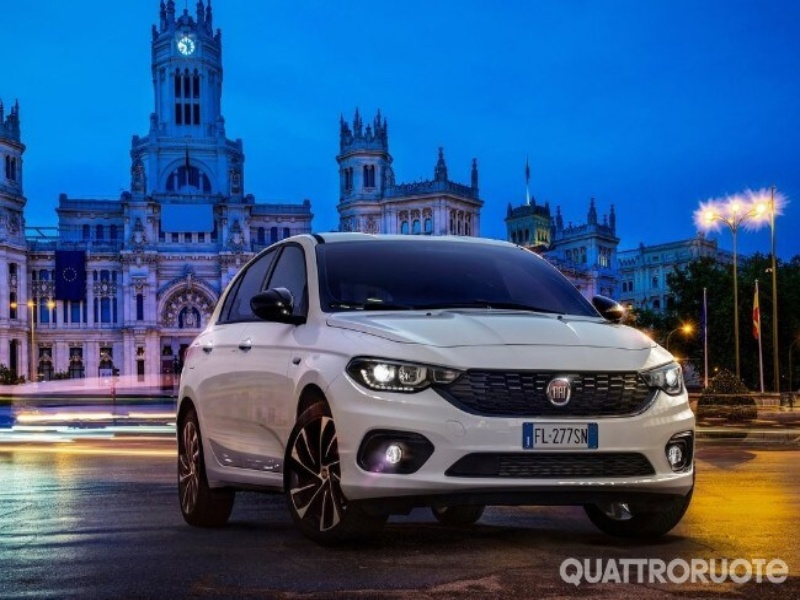licenceplate: (521, 422, 602, 450)
